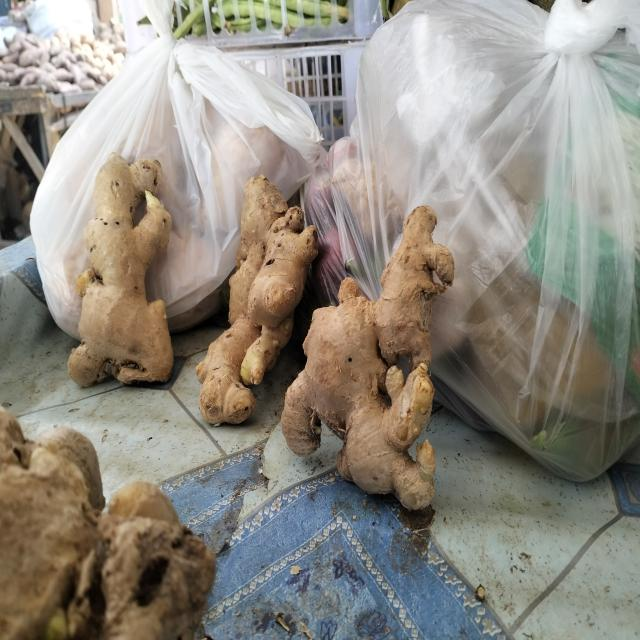ginger: (273, 248, 500, 514), (31, 144, 186, 400), (204, 159, 293, 416)
